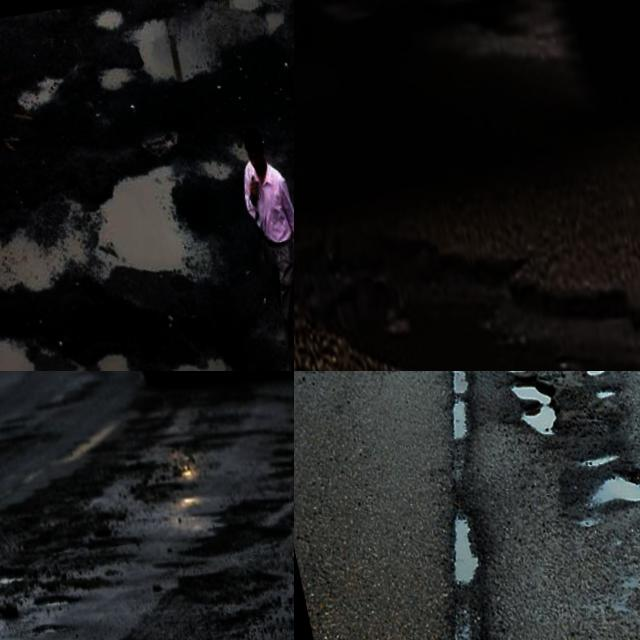Potholes: (294, 165, 640, 371), (0, 120, 249, 348), (351, 471, 548, 640), (294, 174, 411, 371), (0, 291, 276, 371), (68, 0, 287, 100), (173, 454, 294, 616), (534, 419, 640, 581), (161, 547, 294, 640), (36, 504, 146, 612), (404, 371, 524, 469), (206, 65, 294, 168), (258, 371, 294, 512), (0, 548, 45, 640)
